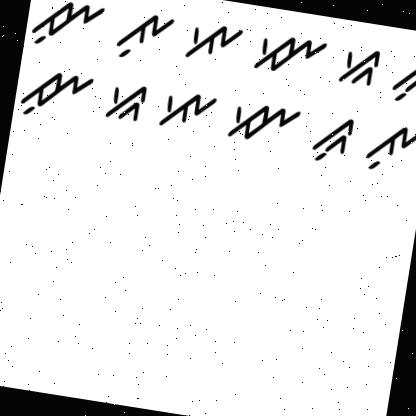e: (176, 7, 247, 67), (154, 81, 218, 141)
ngge: (330, 35, 385, 90), (98, 72, 150, 130)
nggu: (306, 104, 362, 174), (381, 46, 416, 111)
nje: (218, 90, 305, 152), (249, 22, 331, 84)
nju: (14, 56, 97, 129), (28, 0, 104, 57)
u: (110, 5, 178, 70), (360, 117, 416, 185)
